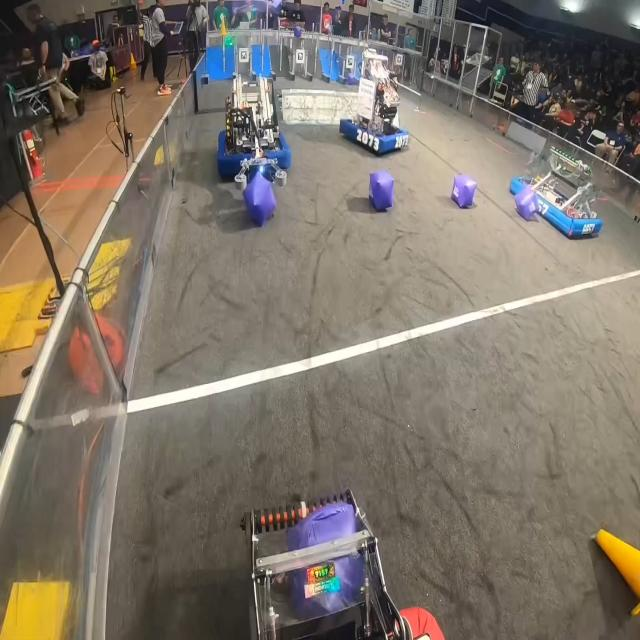robot: (510, 145, 602, 239), (218, 74, 292, 189), (340, 49, 409, 158)
